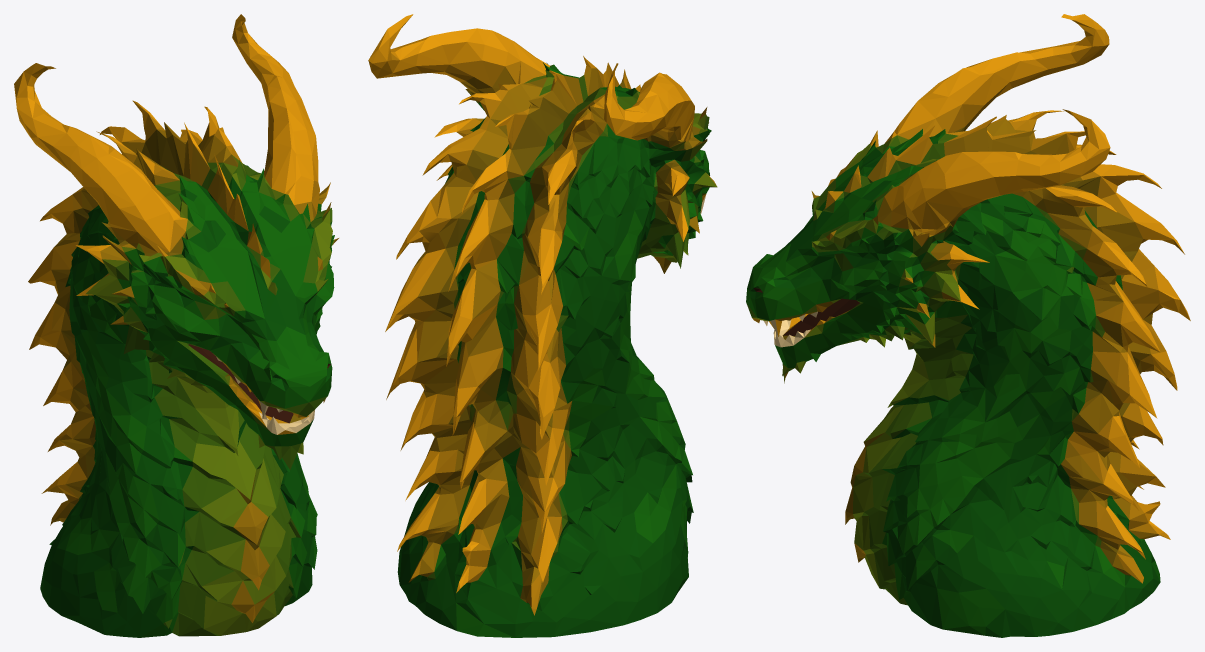
The model's file is low-poly-dragon-head.glb.
The picture shows the model from 3 angles, left to right: view 1: azimuth 30°, elevation 25°; view 2: azimuth 150°, elevation 25°; view 3: azimuth 270°, elevation 25°; orthographic projection. The views are drawn at different scales.
Visible parts, largest first — view 1: low-poly-dragon-head; view 2: low-poly-dragon-head; view 3: low-poly-dragon-head.
Boxes of the visible parts, bbox=[...] form: low-poly-dragon-head: bbox=[14, 14, 338, 637]; low-poly-dragon-head: bbox=[368, 14, 717, 637]; low-poly-dragon-head: bbox=[746, 14, 1190, 637].
Bounding box in the file's own units: 0.4574 × 0.9014 × 0.6986.
Materials: 1 (1 with a texture image).
